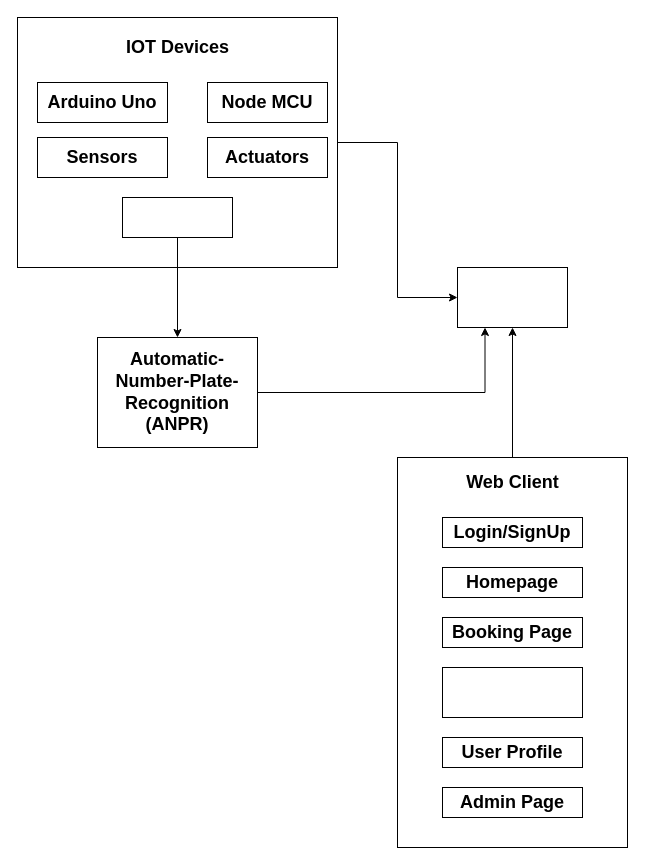
This 645x865 diagram has some shape labels left out. Here are the shapes that lost their labels. From the top down, the centre of each, then its label:
point 177,217: Camera
point 512,297: XAMPP Server
point 512,692: Payment Interface
